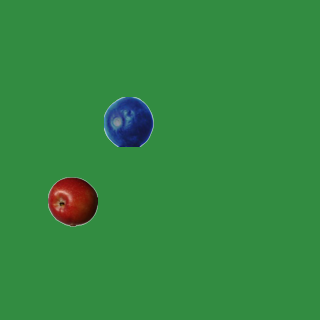Apple Braeburn: (47, 176, 97, 226)
Huckleberry: (103, 96, 153, 146)
